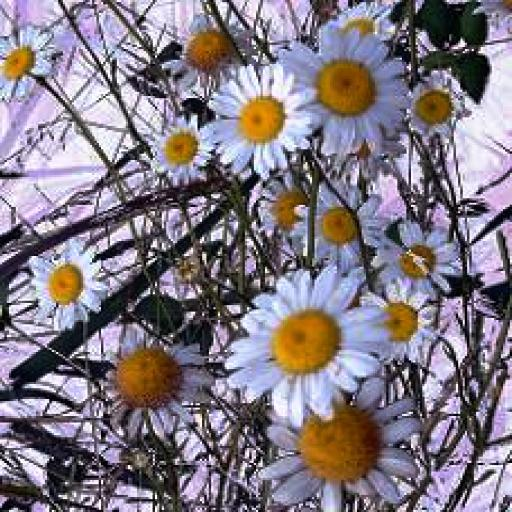daisy: (234, 277, 384, 410), (267, 410, 413, 506), (290, 39, 408, 130), (99, 339, 209, 425), (211, 87, 308, 158), (314, 184, 388, 275), (27, 247, 105, 316), (384, 230, 449, 292), (386, 292, 440, 356), (180, 28, 244, 74), (324, 4, 398, 36), (268, 179, 306, 241), (155, 126, 209, 166)
